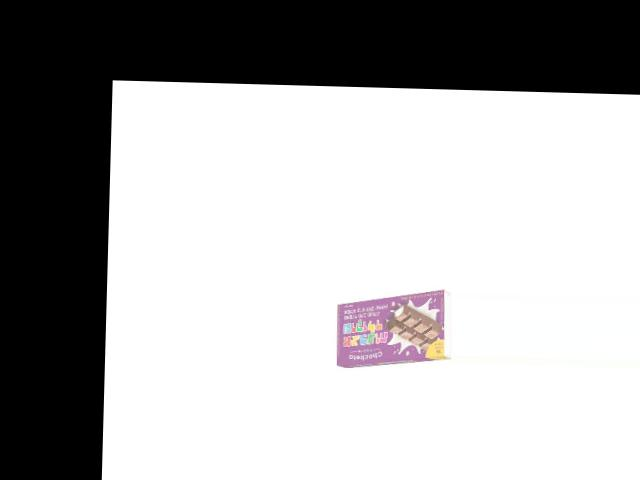chocolate: (327, 292, 454, 370)
